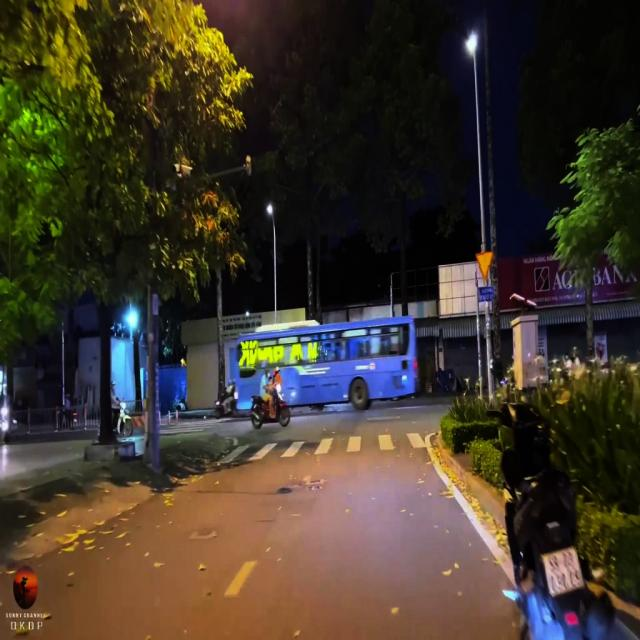giao_nhau_voi_duong_uu_tien: (477, 252, 492, 280)
